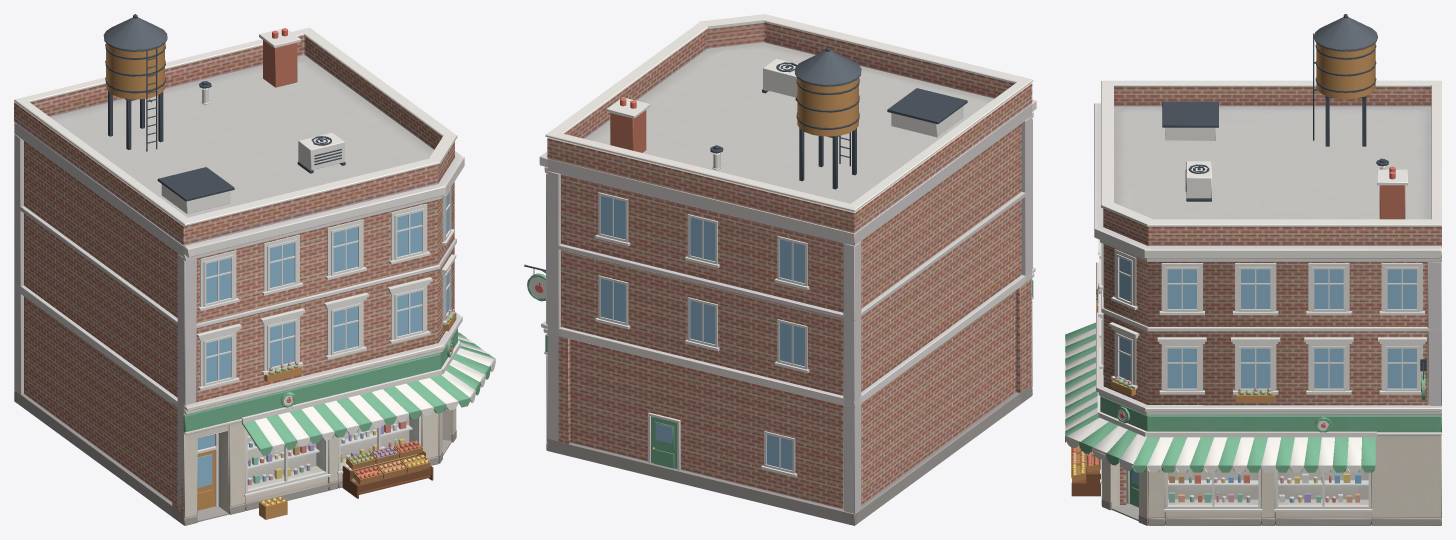
The model's file is bldg_shop.glb.
3 renders of one model, left to right at view 1: azimuth 30°, elevation 25°; view 2: azimuth 150°, elevation 25°; view 3: azimuth 270°, elevation 25°, orthographic. The views are drawn at different scales.
Visible parts, largest first — view 1: corner-shop_body, corner-shop_awning, corner-shop_details, corner-shop_shop_glass, corner-shop_roof_items, corner-shop_display_goods; view 2: corner-shop_body, corner-shop_details, corner-shop_awning, corner-shop_roof_items; view 3: corner-shop_body, corner-shop_awning, corner-shop_details, corner-shop_shop_glass, corner-shop_roof_items, corner-shop_display_goods.
Boxes of the visible parts, left/top/right/bottom form: corner-shop_body: left=14, top=27, right=464, bottom=525; corner-shop_awning: left=161, top=28, right=495, bottom=506; corner-shop_details: left=105, top=14, right=456, bottom=521; corner-shop_shop_glass: left=248, top=417, right=417, bottom=489; corner-shop_roof_items: left=103, top=17, right=297, bottom=87; corner-shop_display_goods: left=247, top=308, right=454, bottom=506; corner-shop_body: left=539, top=14, right=1036, bottom=525; corner-shop_details: left=524, top=47, right=967, bottom=470; corner-shop_awning: left=527, top=59, right=963, bottom=477; corner-shop_roof_items: left=610, top=50, right=861, bottom=152; corner-shop_body: left=1094, top=80, right=1441, bottom=525; corner-shop_awning: left=1065, top=127, right=1426, bottom=511; corner-shop_details: left=1071, top=14, right=1426, bottom=520; corner-shop_shop_glass: left=1168, top=468, right=1367, bottom=504; corner-shop_roof_items: left=1314, top=17, right=1405, bottom=219; corner-shop_display_goods: left=1072, top=286, right=1361, bottom=502.
Size of the model in its own units: 13.35 by 15.77 by 13.35.
Materials: 21 (1 with a texture image).
